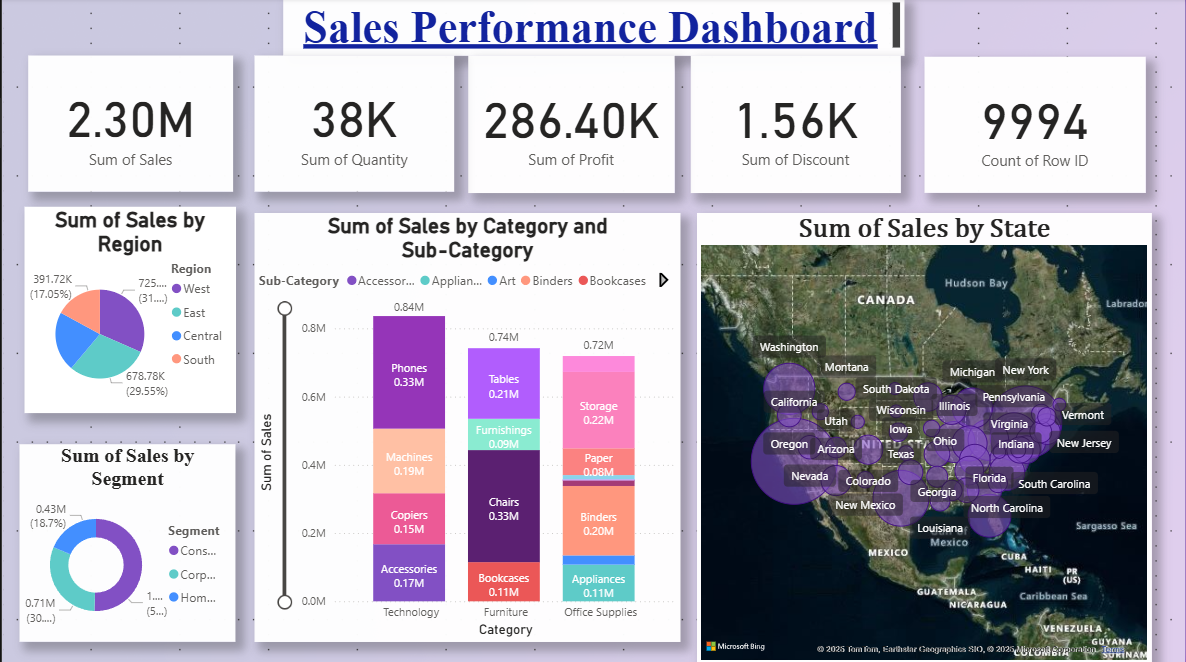

What the dashboard file says about the page in this screenshot:
{"tool":"powerbi","page":{"name":"Page 1","canvas":[1280,720],"ordinal":0},"visuals":[{"type":"textbox","box":[304.2,0,672,62.2],"z":0},{"type":"card","fields":{"Values":["Sum(Sample - Superstore.Discount)"]},"box":[745,62.2,227.2,148.7],"z":1000},{"type":"card","fields":{"Values":["Sum(Sample - Superstore.Profit)"]},"box":[504.3,62.2,223.1,148.7],"z":2000},{"type":"card","fields":{"Values":["Sum(Sample - Superstore.Quantity)"]},"box":[273.1,62.2,216.3,147.4],"z":3000},{"type":"card","fields":{"Values":["Sum(Sample - Superstore.Sales)"]},"box":[28.4,62.2,221.7,147.4],"z":4000},{"type":"card","fields":{"Values":["CountNonNull(Sample - Superstore.Row ID)"]},"box":[997.9,63.5,239.3,147.4],"z":5000},{"type":"pieChart","fields":{"Y":["Sum(Sample - Superstore.Sales)"],"Category":["Sample - Superstore.Region"]},"box":[24.3,225.8,228.5,223.1],"z":6000},{"type":"columnChart","fields":{"Y":["Sum(Sample - Superstore.Sales)"],"Category":["Sample - Superstore.Category"],"Series":["Sample - Superstore.Sub-Category"]},"box":[273.1,232.6,461.1,463.8],"z":7000},{"type":"donutChart","fields":{"Category":["Sample - Superstore.Segment"],"Y":["Sum(Sample - Superstore.Sales)"]},"box":[18.9,482.7,233.9,213.6],"z":8000},{"type":"map","fields":{"Size":["Sum(Sample - Superstore.Sales)"],"Category":["Sample - Superstore.State"]},"box":[751.8,232.6,492.2,488.1],"z":9000}]}

Visuals, with their boxes in screenshot pixels (x1, y1, x2, y2), scaled from the page's 1280x720 canvas onto the 1186x662 screenshot:
textbox: [282, 0, 905, 57]
card - Sum(Sample - Superstore.Discount): [690, 57, 901, 194]
card - Sum(Sample - Superstore.Profit): [467, 57, 674, 194]
card - Sum(Sample - Superstore.Quantity): [253, 57, 453, 193]
card - Sum(Sample - Superstore.Sales): [26, 57, 232, 193]
card - CountNonNull(Sample - Superstore.Row ID): [925, 58, 1146, 194]
pieChart - Sum(Sample - Superstore.Sales) x Sample - Superstore.Region: [23, 208, 234, 413]
columnChart - Sum(Sample - Superstore.Sales) x Sample - Superstore.Category: [253, 214, 680, 640]
donutChart - Sample - Superstore.Segment x Sum(Sample - Superstore.Sales): [18, 444, 234, 640]
map - Sum(Sample - Superstore.Sales) x Sample - Superstore.State: [697, 214, 1153, 661]
